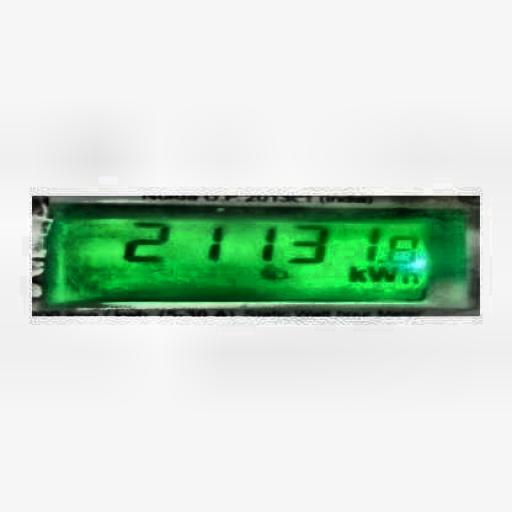DISPLAY_REGION: (34, 194, 478, 325)
SERIAL_REGION: (114, 218, 431, 294)
